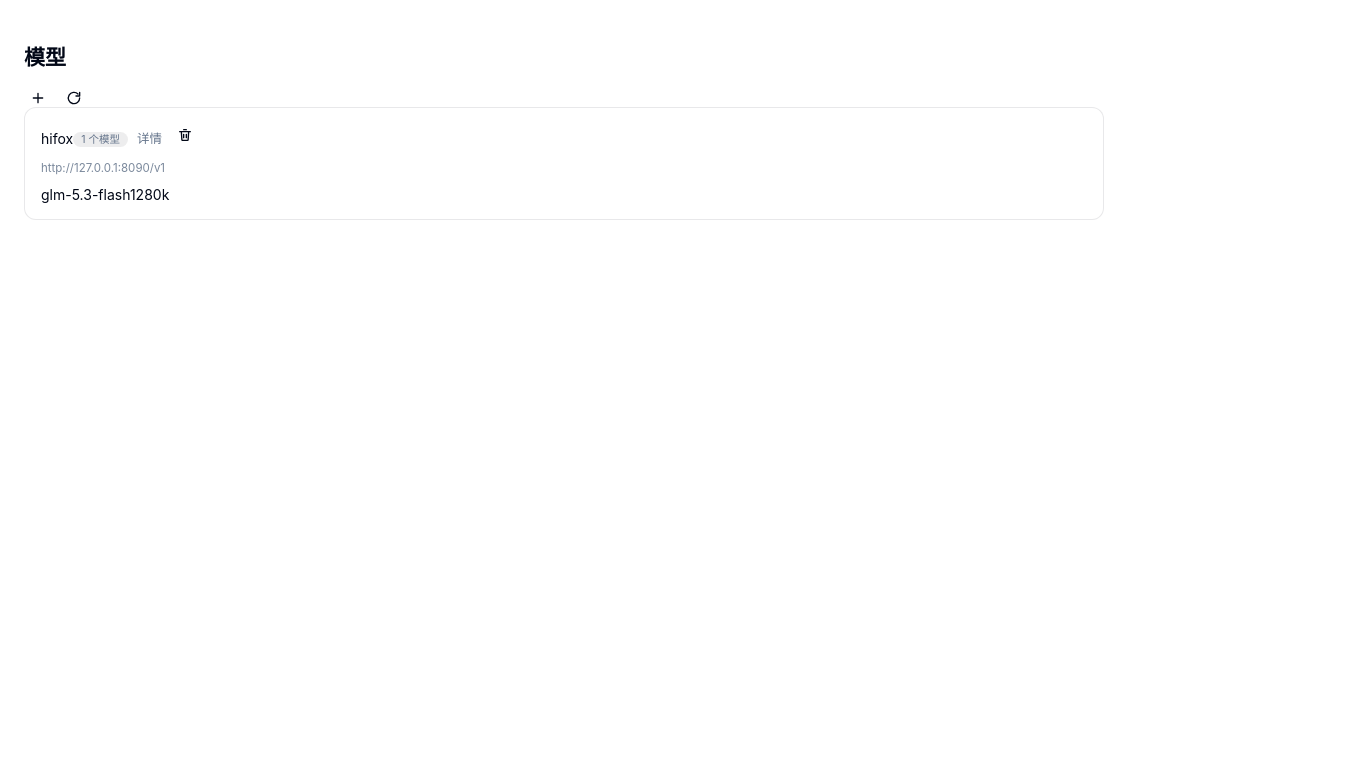
Test case: ModelPage › adds a model from the provider details
Expected: the text "hifox" is shown, 41,129 -> 73,146
Click the button "详情" at coordinates (149, 138), box 128,124 -> 171,152
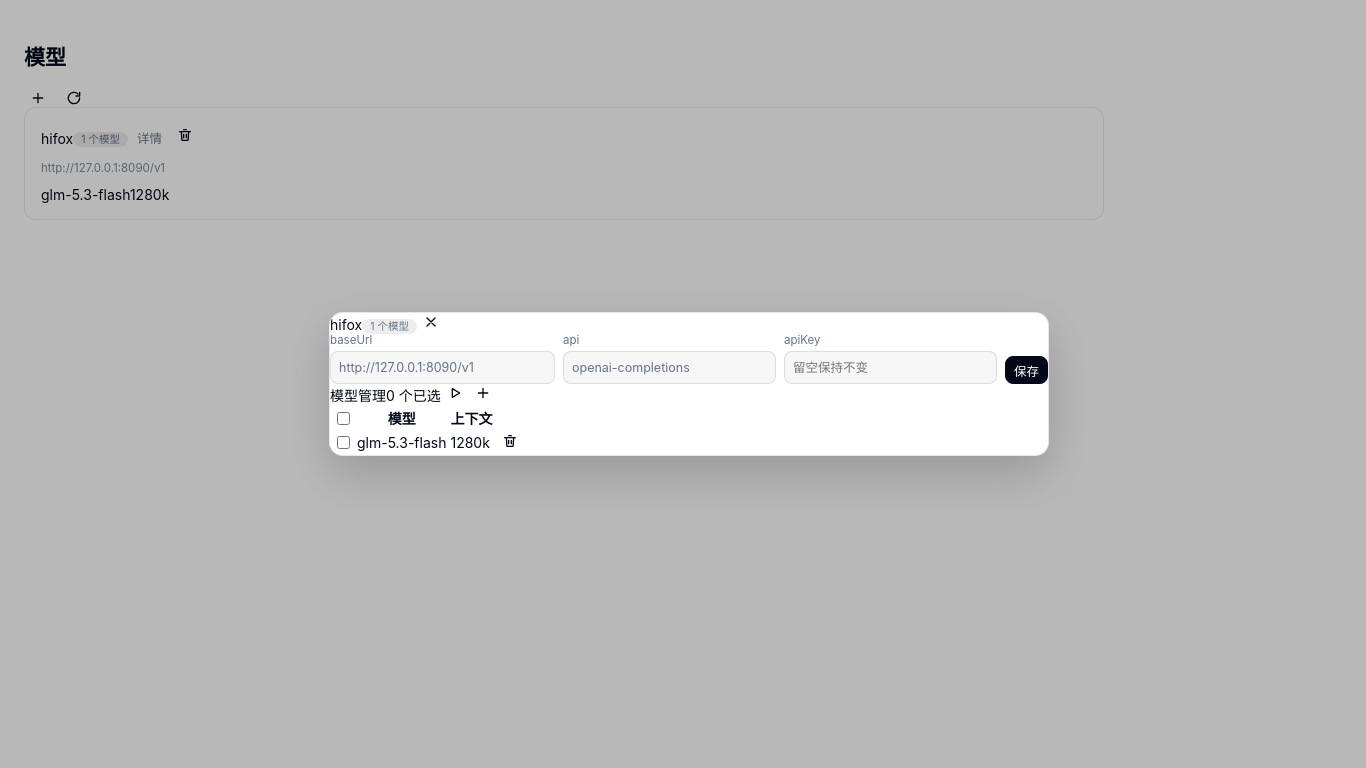
Click the button named "添加模型" at coordinates (483, 393), box 469,384 -> 497,402
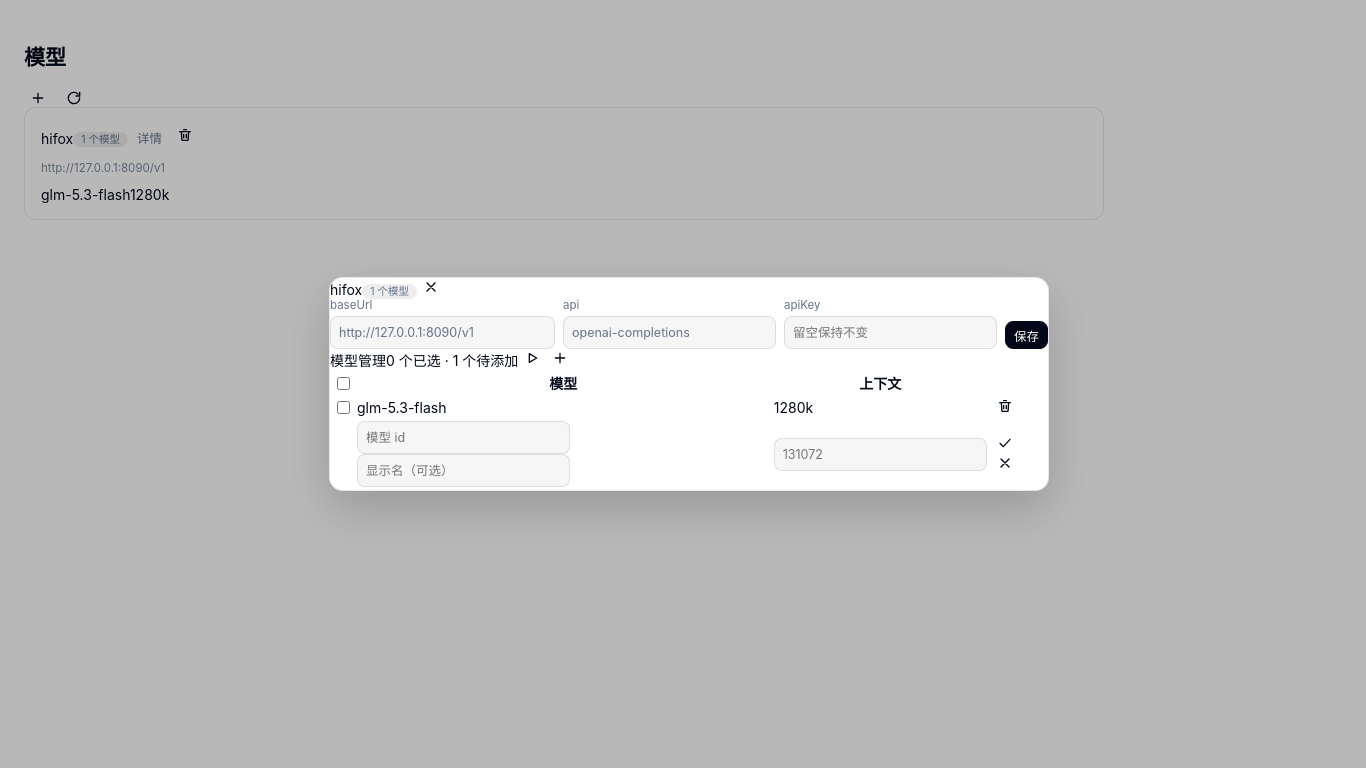
Type "probe-model" into the field named "新模型 id" at coordinates (464, 438), box 357,421 -> 570,454
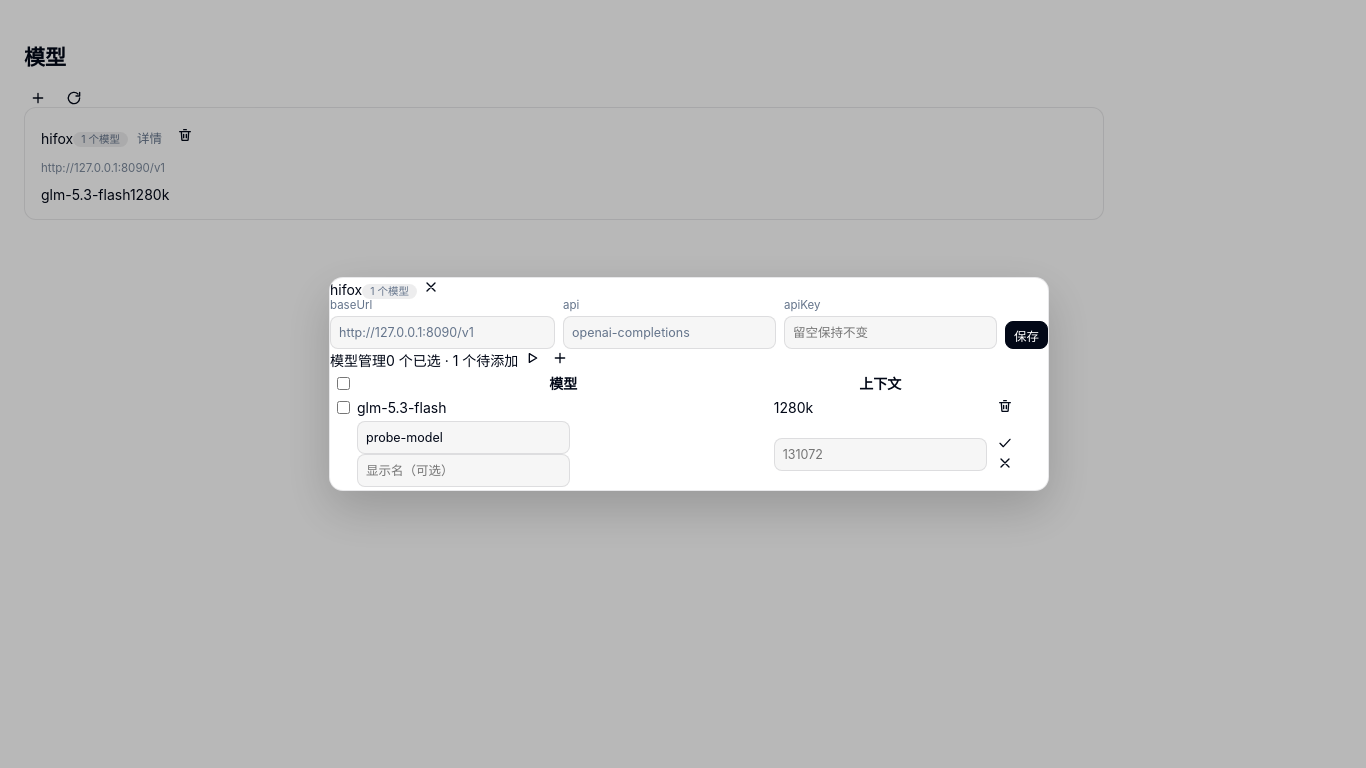
Click the button named "保存新模型" at coordinates (1005, 443), box 991,434 -> 1019,452
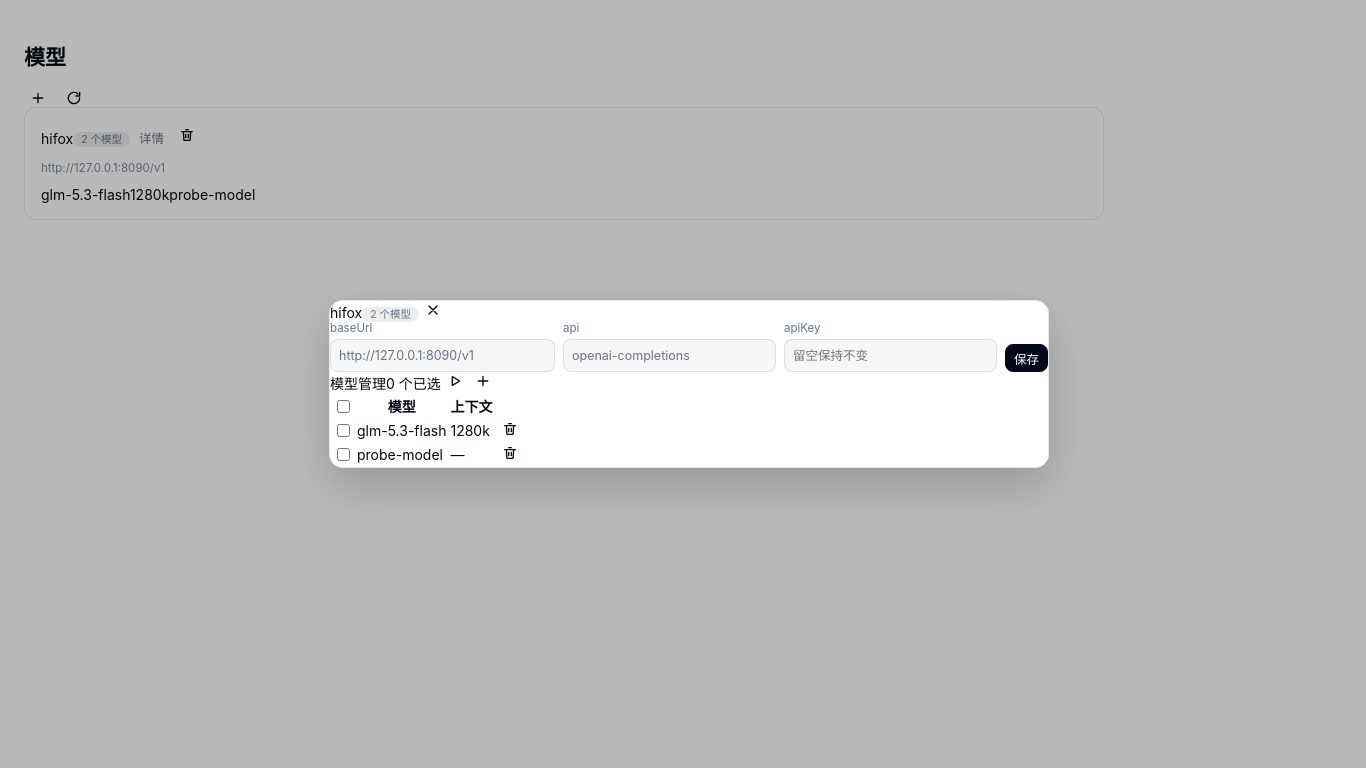
Expected: the text "probe-model" is shown, 357,446 -> 443,462
